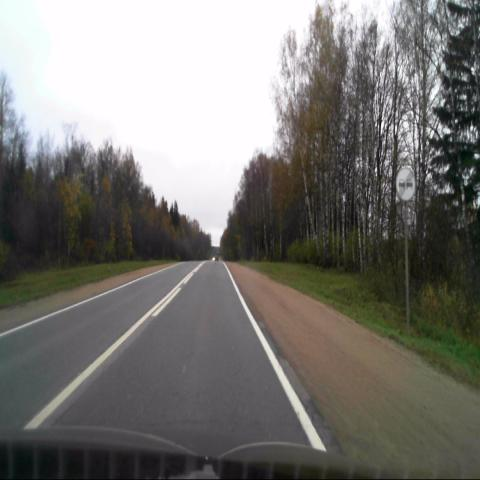3_21: (395, 169, 415, 201)
